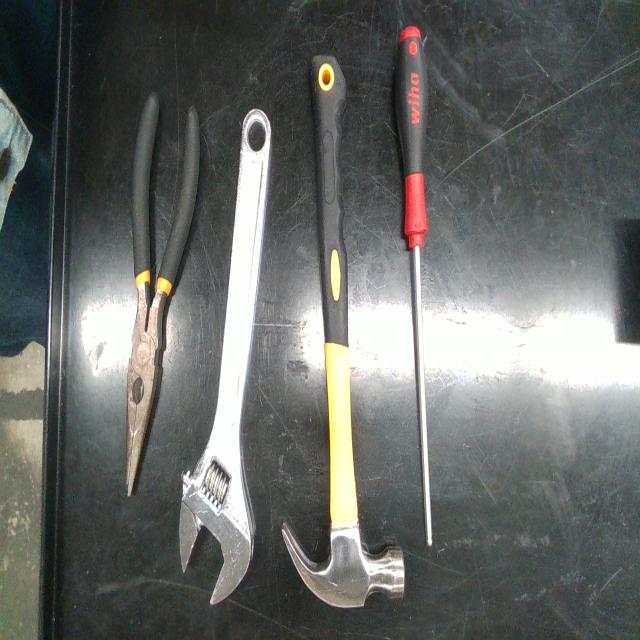Screwdriver: (395, 27, 432, 547)
